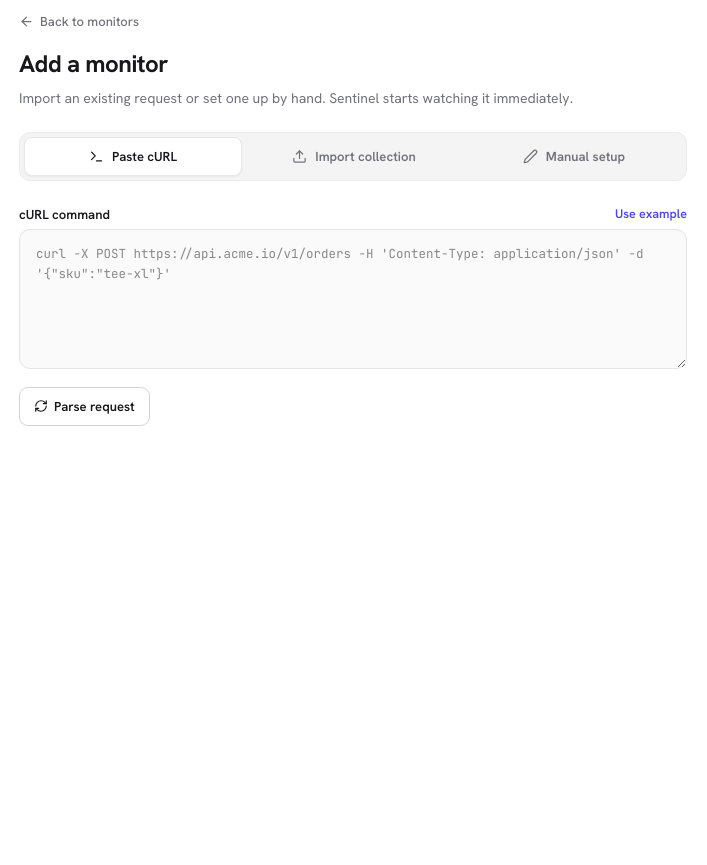
Test: add monitor — paste cURL › parses via POST /imports/curl and previews the detected request
Type "curl -X POST https://api.stripe.com/v1/checkout" into the text box with placeholder "curl".
click(353, 298); type("curl -X POST https://api.stripe.com/v1/checkout")  # box [19,228,687,368]
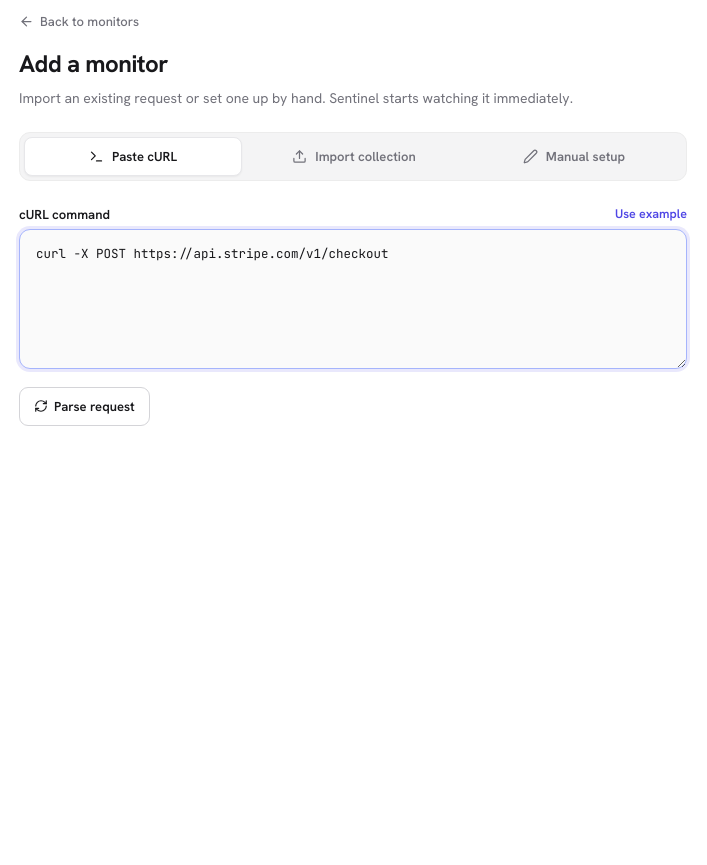
Click the button "Parse request".
click(84, 406)  # box [19,386,150,426]
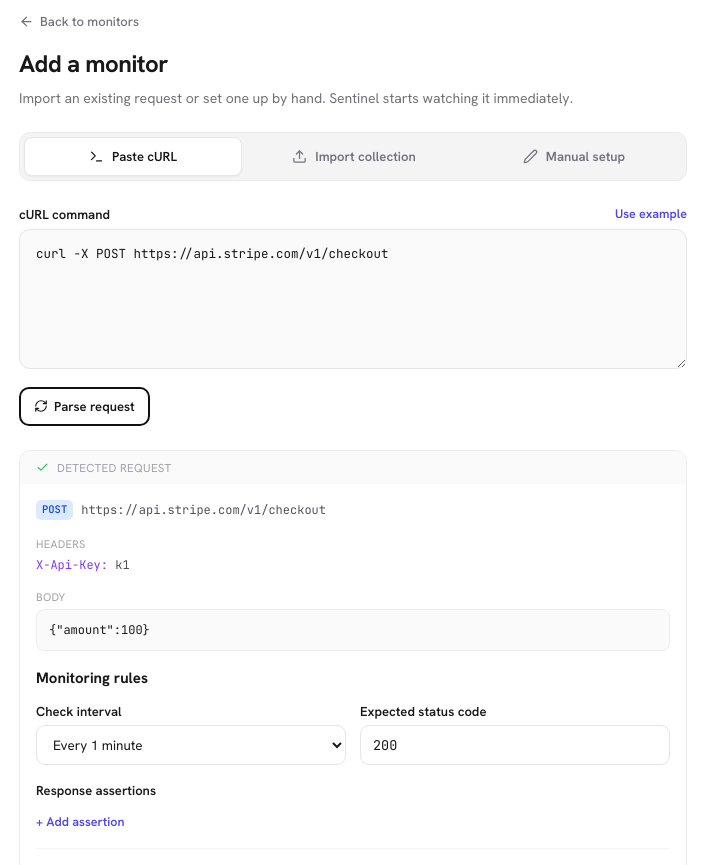
Check: the text "POST" is shown, box [36,500,73,520]
Check: the text "https://api.stripe.com/v1/checkout" is shown, box [81,502,326,518]
Check: the text "X-Api-Key:" is shown, box [36,556,108,572]
